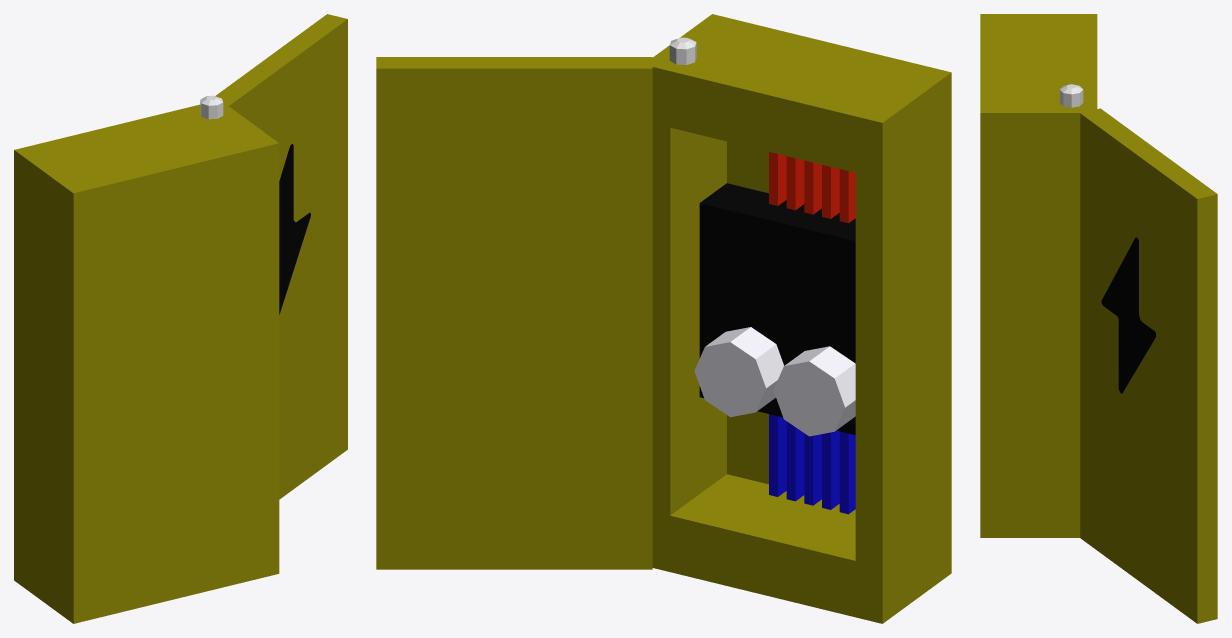
File: bezpieczniki.fbx
3 views of the same model, side by side, from view 1: azimuth 30°, elevation 25°; view 2: azimuth 150°, elevation 25°; view 3: azimuth 270°, elevation 25° (orthographic). The views are drawn at different scales.
Visible parts, largest first — view 1: SKRZYNKA, DRZWICZKI, BLYSKAWICA, LAMPKA; view 2: SKRZYNKA, DRZWICZKI, BEZPIECZNIK2, BEZPIECZNIK; view 3: DRZWICZKI, SKRZYNKA, BLYSKAWICA, LAMPKA.
Boxes of the visible parts, x1,y1,x2,y2 form: SKRZYNKA: (14,104,279,623); DRZWICZKI: (215,14,347,499); BLYSKAWICA: (279,144,310,314); LAMPKA: (200,95,223,119); SKRZYNKA: (647,14,951,623); DRZWICZKI: (376,57,652,569); BEZPIECZNIK2: (694,327,783,417); BEZPIECZNIK: (773,346,855,436); DRZWICZKI: (1080,108,1217,623); SKRZYNKA: (980,14,1097,537); BLYSKAWICA: (1101,237,1155,393); LAMPKA: (1060,84,1083,107).
Size of the model in its own units: 374 by 415 by 203.
